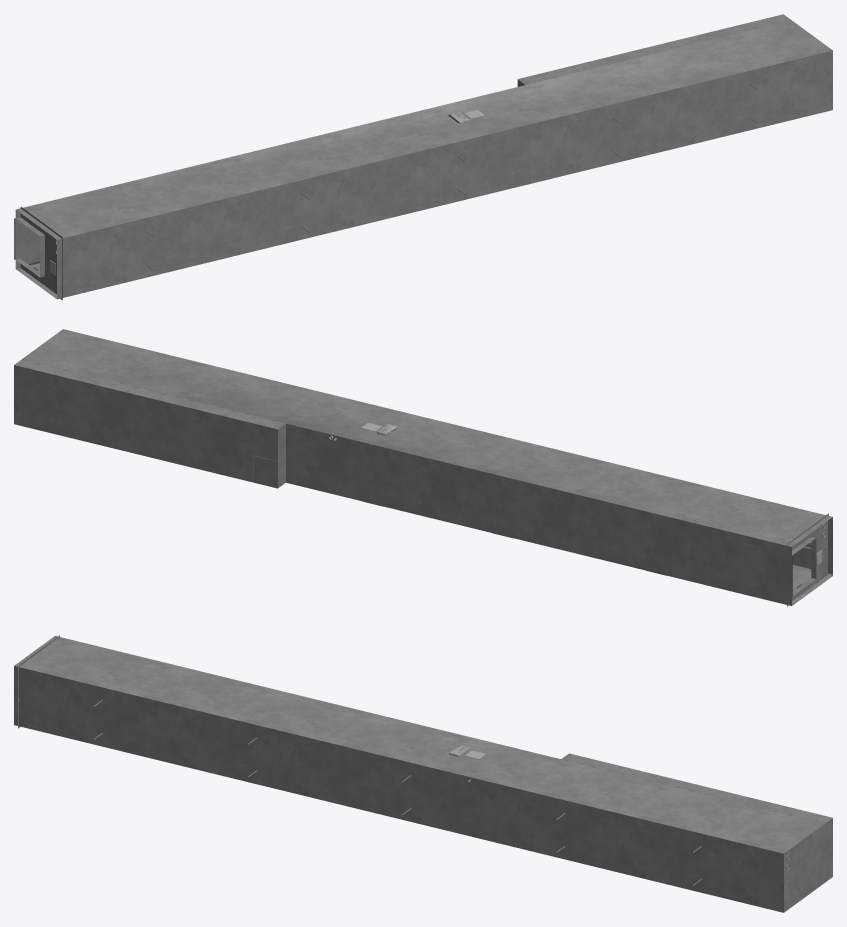
The model's file is Corridor_Wall_02.obj.
The picture shows the model from 3 angles, top to bottom: view 1: azimuth 30°, elevation 25°; view 2: azimuth 150°, elevation 25°; view 3: azimuth 330°, elevation 25°; orthographic projection.
Parts seen in each view (by area): view 1: Corridor_Wall_01_8, Corridor_Wall_01_5, Corridor_Wall_01, Corridor_Wall_01_6; view 2: Corridor_Wall_01_6, Corridor_Wall_01_5, Corridor_Wall_01, Corridor_Wall_01_8; view 3: Corridor_Wall_01_8, Corridor_Wall_01_5, Corridor_Wall_01.
Part boxes in pixels (x1,y1,x2,y2): Corridor_Wall_01_8: (57, 50, 832, 299); Corridor_Wall_01_5: (16, 20, 832, 298); Corridor_Wall_01: (16, 14, 791, 300); Corridor_Wall_01_6: (15, 79, 524, 268); Corridor_Wall_01_6: (14, 365, 791, 605); Corridor_Wall_01_5: (22, 329, 832, 605); Corridor_Wall_01: (14, 359, 828, 606); Corridor_Wall_01_8: (792, 517, 832, 575); Corridor_Wall_01_8: (14, 666, 783, 912); Corridor_Wall_01_5: (14, 636, 824, 912); Corridor_Wall_01: (18, 635, 832, 882).
Size of the model in its own units: 48.59 by 3.79 by 6.26.
9 materials, 7 textured.
